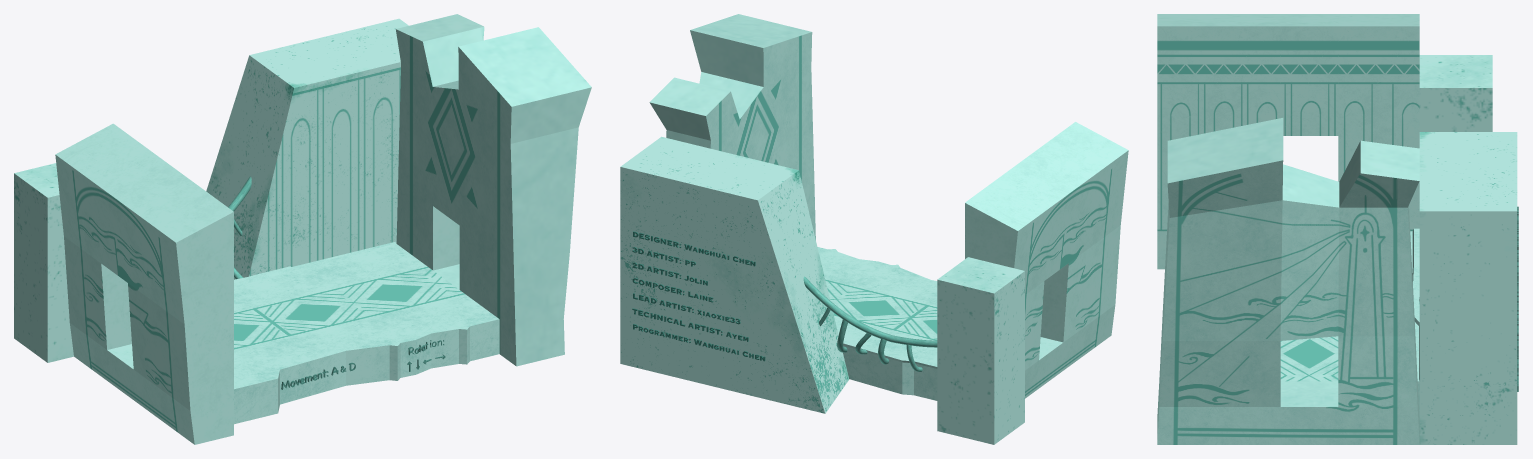
The model's file is Main Menu.fbx.
3 renders of one model, left to right at view 1: azimuth 30°, elevation 25°; view 2: azimuth 150°, elevation 25°; view 3: azimuth 270°, elevation 25°, orthographic. The views are drawn at different scales.
Visible parts, largest first — view 1: Cube.017, Cube.018, Cube.019, Cube.016, Cube.020, GreasePencil.001; view 2: Cube.019, Cube.018, Cube.017, Cube.020, Cube.016, GreasePencil.002, BézierCurve.004; view 3: Cube.017, Cube.018, Cube.019, Cube.020, Cube.016, GreasePencil.002.
Boxes of the visible parts, x1,y1,x2,y2 form: Cube.017: [395, 14, 591, 366]; Cube.018: [55, 123, 233, 444]; Cube.019: [206, 18, 408, 279]; Cube.016: [234, 242, 499, 424]; Cube.020: [14, 163, 73, 362]; GreasePencil.001: [281, 340, 445, 389]; Cube.019: [620, 136, 849, 413]; Cube.018: [965, 122, 1128, 398]; Cube.017: [649, 14, 815, 239]; Cube.020: [937, 257, 1024, 444]; Cube.016: [817, 247, 937, 400]; GreasePencil.002: [632, 231, 765, 361]; BézierCurve.004: [803, 276, 937, 371]; Cube.017: [1157, 118, 1419, 444]; Cube.018: [1157, 14, 1419, 269]; Cube.019: [1419, 132, 1517, 444]; Cube.020: [1419, 55, 1492, 131]; Cube.016: [1280, 228, 1419, 416]; GreasePencil.002: [1517, 206, 1518, 391].
Size of the model in its own units: 906 by 565 by 610.
